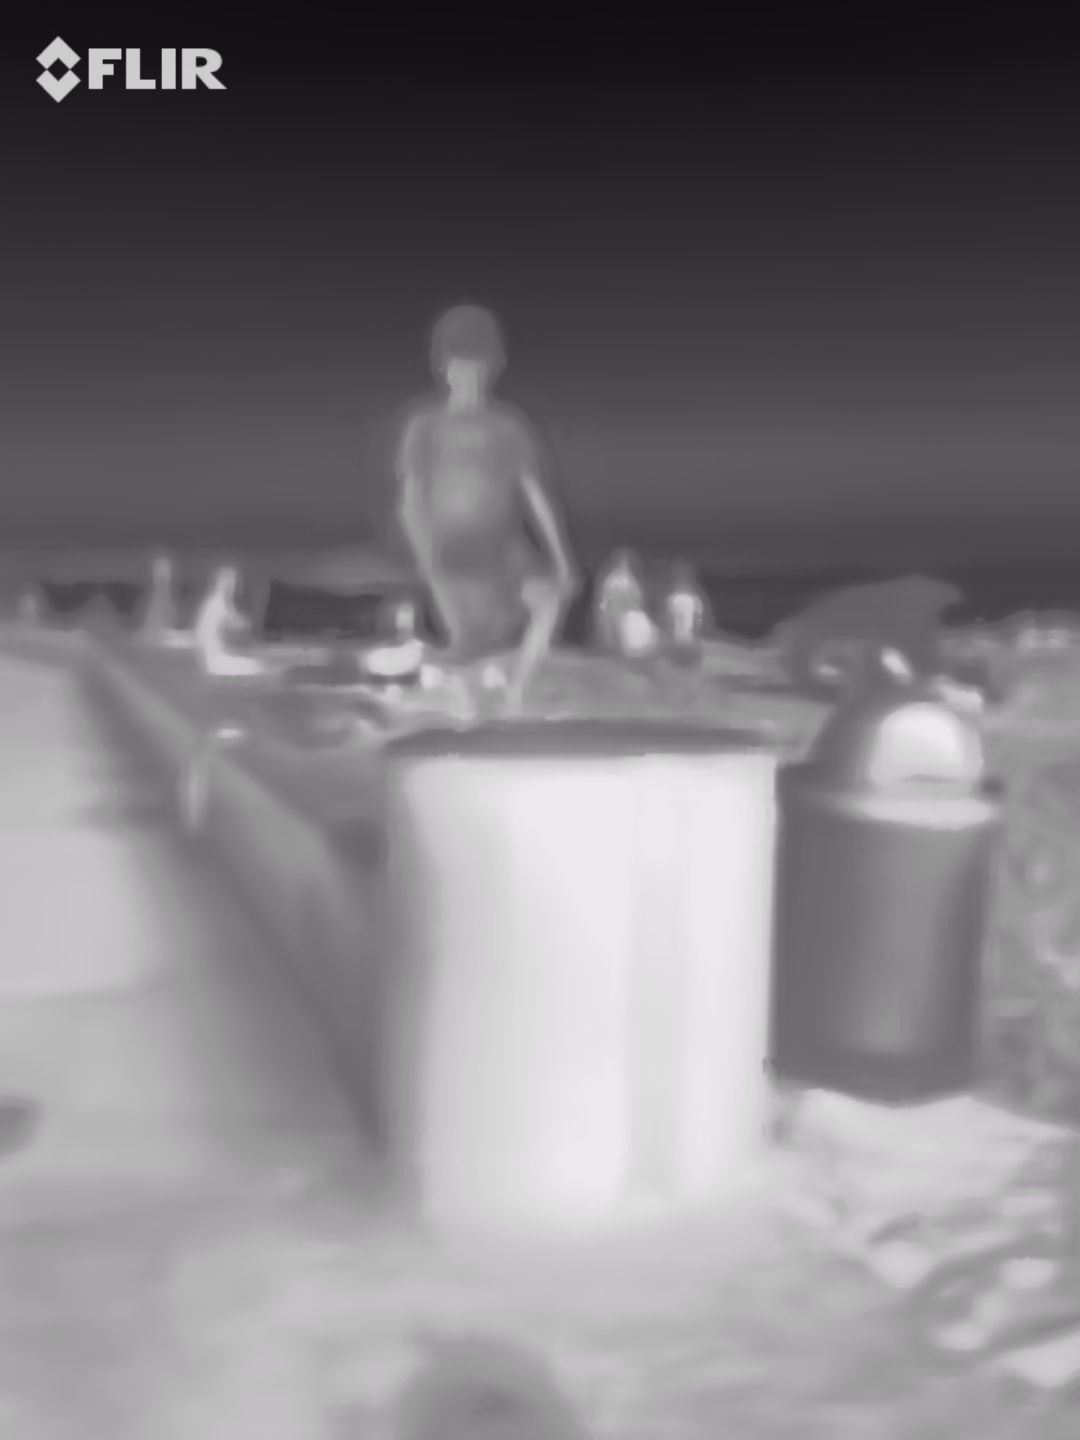head: (427, 301, 510, 410)
